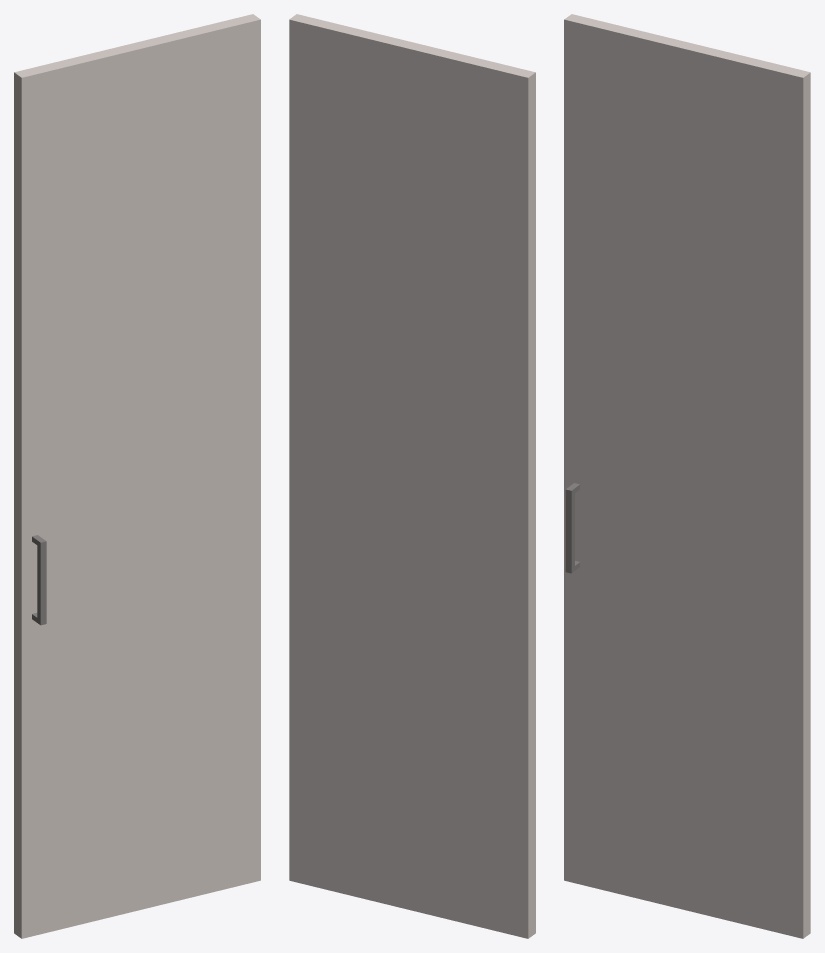
The model's file is Cupboard_04_03.fbx.
3 renders of one model, left to right at view 1: azimuth 30°, elevation 25°; view 2: azimuth 150°, elevation 25°; view 3: azimuth 330°, elevation 25°, orthographic.
Parts seen in each view (by area): view 1: Cupboard_04_03; view 2: Cupboard_04_03; view 3: Cupboard_04_03.
Boxes of the visible parts, left/top/right/bottom form: Cupboard_04_03: left=14, top=14, right=260, bottom=938; Cupboard_04_03: left=289, top=14, right=535, bottom=938; Cupboard_04_03: left=564, top=14, right=810, bottom=938.
Bounding box in the file's own units: 57.64 × 198 × 6.86.
